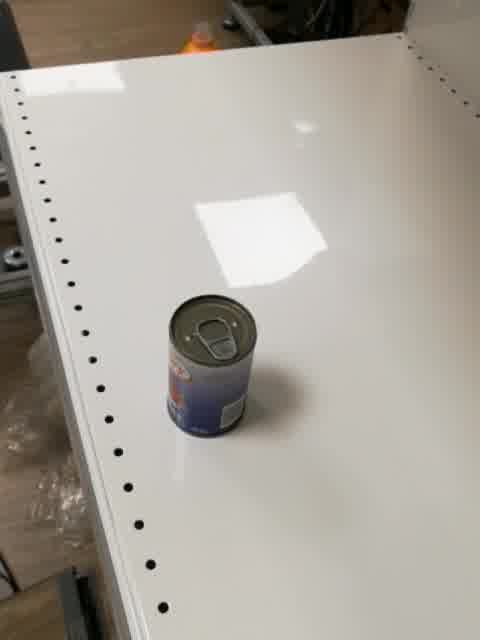sardine: (165, 292, 260, 440)
